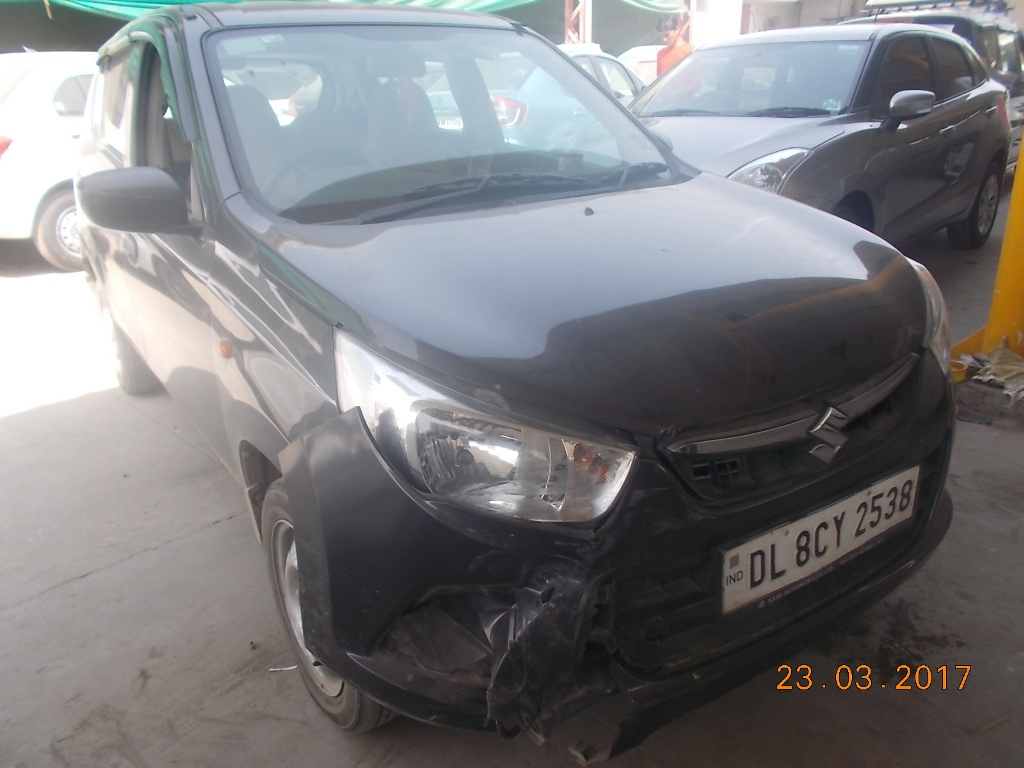Dent: (489, 559, 601, 717)
